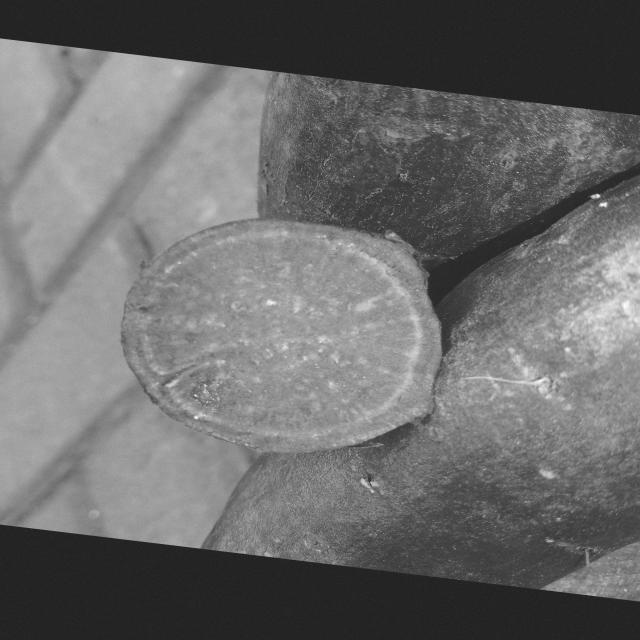Healthy Sweet Potato: (122, 219, 442, 452)
